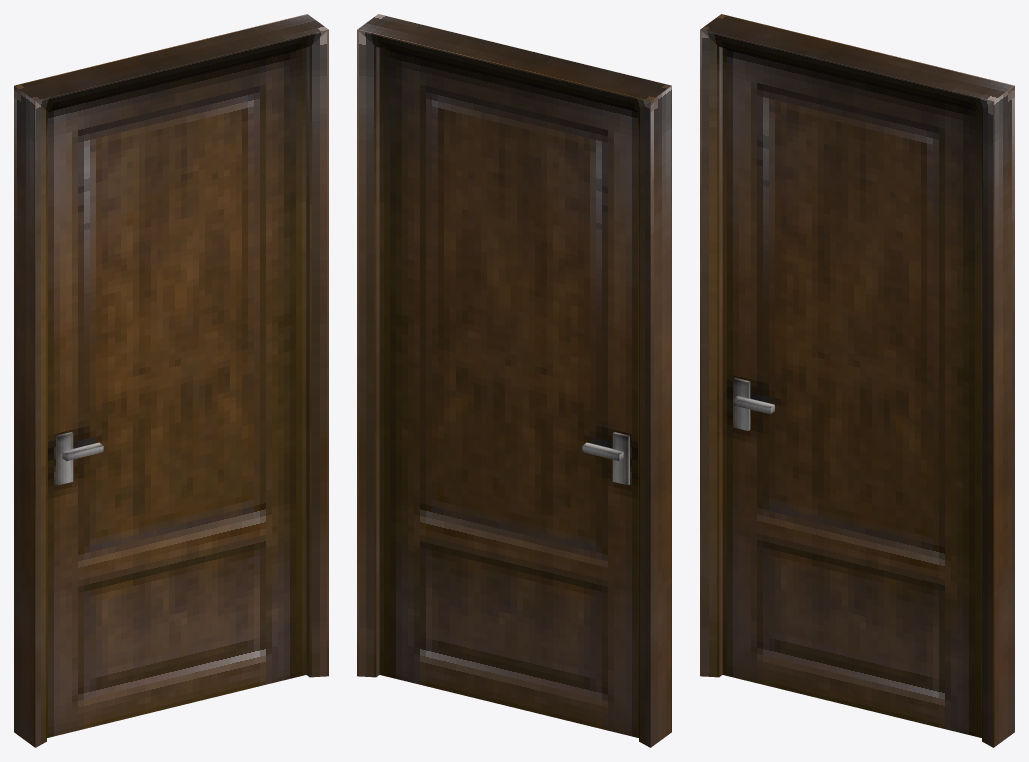
Rendered from door.glb.
3 renders of one model, left to right at view 1: azimuth 30°, elevation 25°; view 2: azimuth 150°, elevation 25°; view 3: azimuth 330°, elevation 25°, orthographic.
Visible parts, largest first — view 1: Cube.001, Cube, Cube.009; view 2: Cube.001, Cube, Cube.009; view 3: Cube.001, Cube, Cube.009.
Boxes of the visible parts, x1,y1,x2,y2 form: Cube.001: [47, 48, 306, 737]; Cube: [14, 14, 328, 747]; Cube.009: [56, 432, 103, 485]; Cube.001: [379, 48, 638, 737]; Cube: [357, 14, 671, 747]; Cube.009: [582, 432, 629, 485]; Cube.001: [722, 48, 981, 737]; Cube: [700, 14, 1014, 747]; Cube.009: [733, 377, 774, 430].
Bounding box in the file's own units: 0.95 × 2 × 0.12.
Materials: 2 (2 with a texture image).
